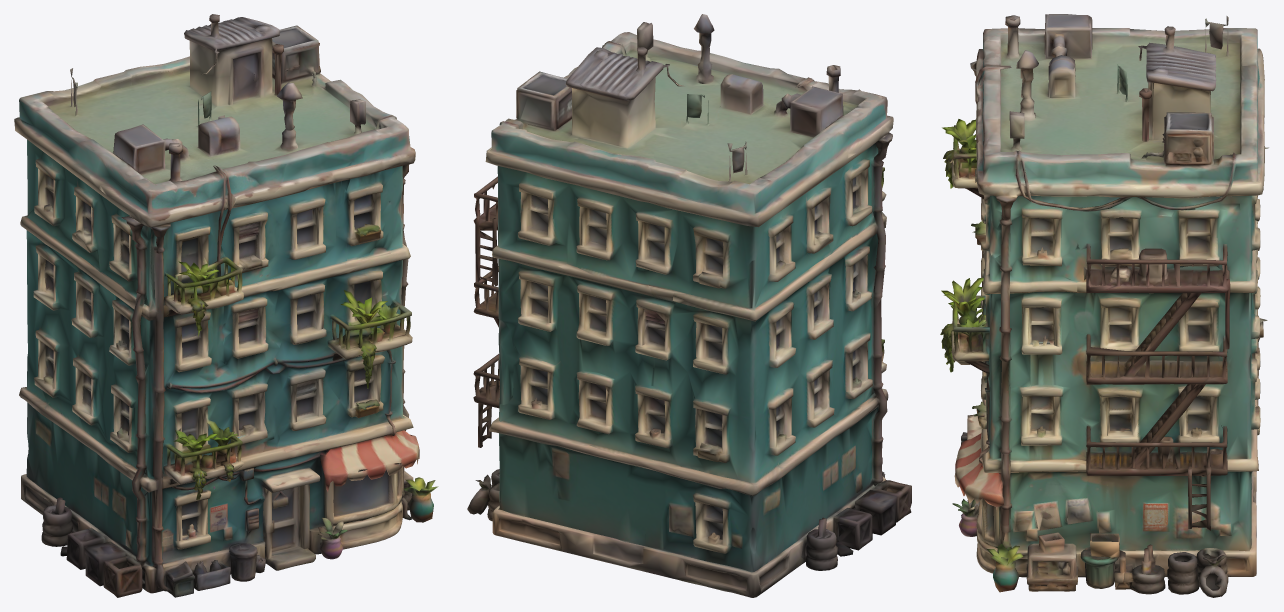
Rendered from apartment_teal.glb.
3 renders of one model, left to right at view 1: azimuth 30°, elevation 25°; view 2: azimuth 150°, elevation 25°; view 3: azimuth 270°, elevation 25°, orthographic. The views are drawn at different scales.
Parts seen in each view (by area): view 1: tripo_part_0, tripo_part_1, tripo_part_2, tripo_part_7, tripo_part_10, tripo_part_4, tripo_part_11, tripo_part_12, tripo_part_13, tripo_part_9; view 2: tripo_part_0, tripo_part_1, tripo_part_2, tripo_part_6, tripo_part_4, tripo_part_12, tripo_part_3; view 3: tripo_part_0, tripo_part_1, tripo_part_6, tripo_part_2, tripo_part_8, tripo_part_7, tripo_part_3, tripo_part_10, tripo_part_13, tripo_part_11, tripo_part_9.
Boxes of the visible parts, x1,y1,x2,y2 form: tripo_part_0: (19, 139, 413, 591); tripo_part_1: (14, 14, 415, 316); tripo_part_2: (21, 471, 413, 597); tripo_part_7: (327, 290, 412, 388); tripo_part_10: (320, 411, 419, 491); tripo_part_4: (41, 497, 72, 546); tripo_part_11: (177, 261, 218, 336); tripo_part_12: (84, 541, 125, 586); tripo_part_13: (404, 477, 438, 522); tripo_part_9: (318, 517, 347, 559); tripo_part_0: (489, 132, 892, 572); tripo_part_1: (485, 14, 893, 227); tripo_part_2: (492, 471, 911, 597); tripo_part_6: (473, 176, 499, 447); tripo_part_4: (805, 517, 837, 570); tripo_part_12: (855, 490, 896, 535); tripo_part_3: (467, 469, 499, 521); tripo_part_0: (945, 61, 1268, 552); tripo_part_1: (950, 14, 1264, 211); tripo_part_6: (1083, 243, 1230, 530); tripo_part_2: (961, 432, 1256, 591); tripo_part_8: (1080, 533, 1165, 594); tripo_part_7: (940, 277, 989, 390); tripo_part_3: (1167, 548, 1228, 597); tripo_part_10: (954, 433, 1003, 511); tripo_part_13: (986, 544, 1023, 592); tripo_part_11: (942, 119, 976, 188); tripo_part_9: (952, 499, 978, 536).
Size of the model in its own units: 0.7161 by 0.9791 by 0.5908.
1 material, 1 textured.
